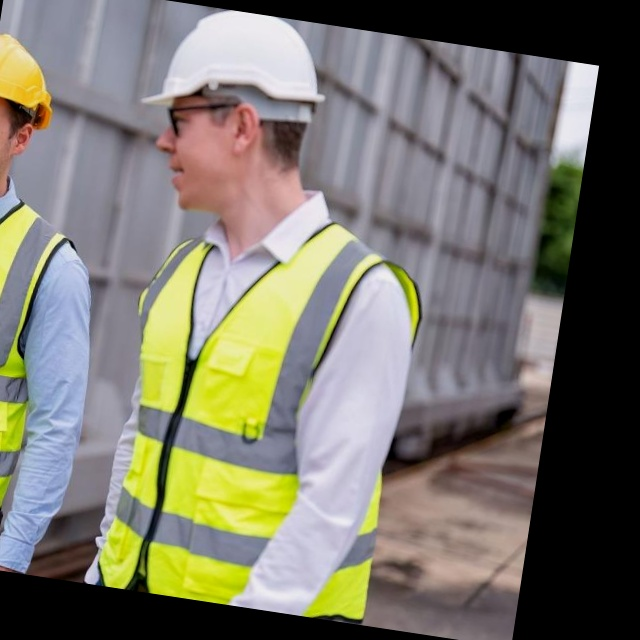Con_Chaleco: (97, 205, 424, 626)
